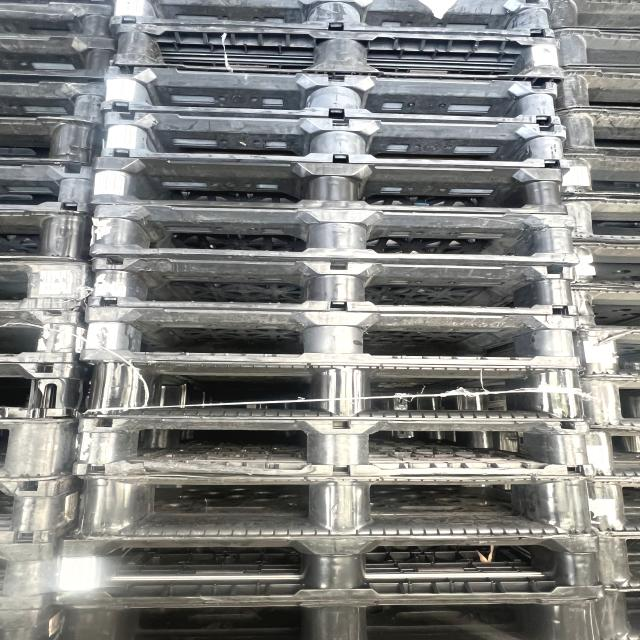igps: (48, 533, 608, 610), (67, 468, 600, 542), (69, 415, 599, 484), (87, 197, 583, 270), (85, 250, 584, 320), (77, 358, 594, 422), (77, 304, 583, 369), (84, 152, 574, 218), (107, 18, 570, 86), (98, 106, 572, 172), (98, 64, 564, 128), (55, 596, 615, 640), (103, 0, 559, 46), (0, 471, 87, 545), (0, 414, 89, 485), (0, 357, 95, 423), (0, 31, 121, 81), (0, 113, 110, 168), (0, 308, 97, 370), (0, 77, 110, 131), (0, 206, 97, 267), (0, 257, 98, 316), (0, 538, 76, 614), (0, 162, 97, 220), (0, 0, 122, 44), (550, 149, 640, 207), (549, 62, 640, 117), (550, 20, 640, 74), (550, 105, 640, 158), (554, 192, 640, 247), (567, 236, 640, 294), (567, 324, 640, 382), (573, 372, 640, 434), (581, 473, 640, 539), (538, 0, 640, 37), (567, 283, 640, 334), (580, 424, 640, 484), (587, 532, 640, 594), (586, 586, 640, 640), (0, 600, 69, 639)
